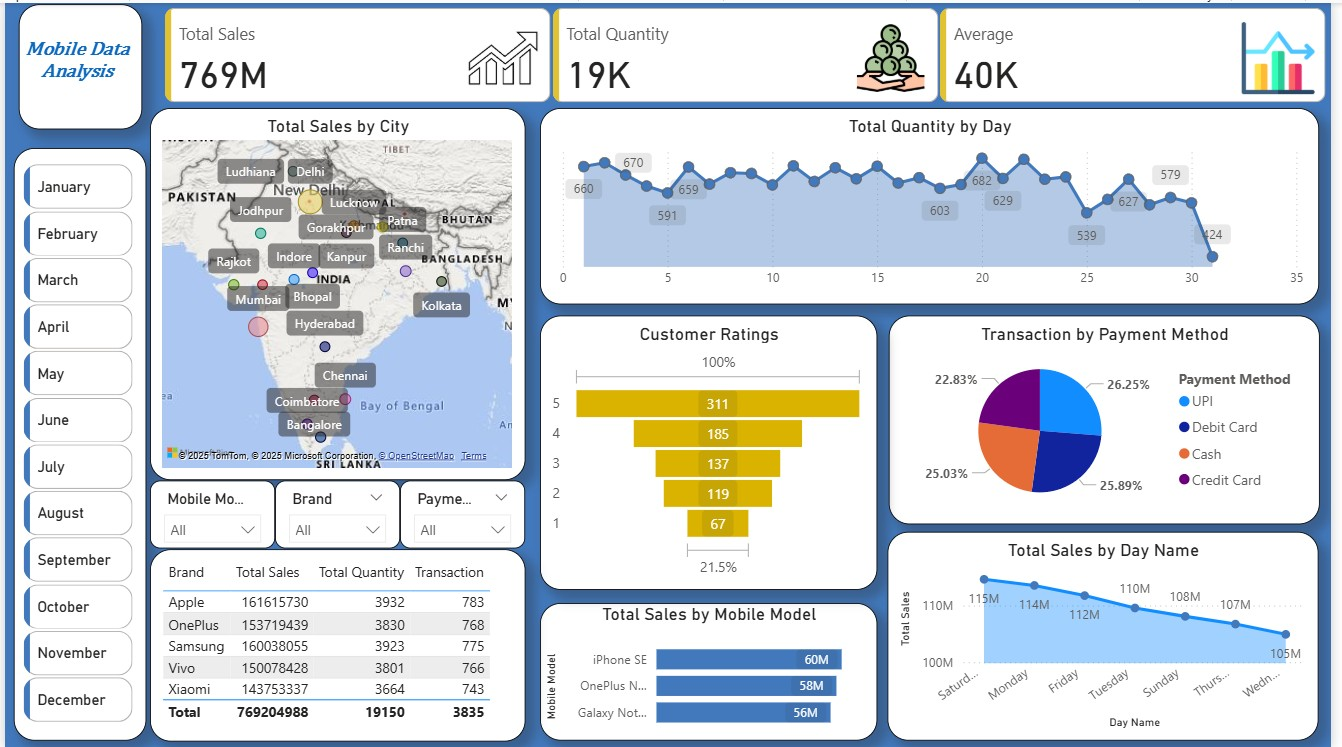

Layout of this report page (visuals, bound fields, positions):
{"tool":"powerbi","page":{"name":"Page 1","canvas":[1280,720],"ordinal":0},"visuals":[{"type":"shape","box":[13.7,1.4,119.4,120.8],"z":0},{"type":"shape","box":[8.2,140,127.6,572.2],"z":1000},{"type":"advancedSlicerVisual","fields":{"Values":["Sheet1.Date.Variation.Date Hierarchy.Month"]},"box":[13.3,150.8,115.8,548.9],"z":2000},{"type":"cardVisual","fields":{"Data":["Sales _Data.Total Sales","Sales _Data.Total Quantity","Sales _Data.Average"]},"box":[149.6,0,1130.7,101.5],"z":3000},{"type":"map","fields":{"Category":["Sales _Data.City"],"Size":["Sales _Data.Total Sales"]},"box":[140,101.5,362.3,359.5],"z":4000},{"type":"lineChart","fields":{"Category":["Sales _Data.Date.Variation.Date Hierarchy.Month","Sales _Data.Date.Variation.Date Hierarchy.Day"],"Y":["Sales _Data.Total Quantity"]},"box":[516,101.5,752,189.4],"z":5000},{"type":"clusteredBarChart","fields":{"Category":["Sales _Data.Mobile Model"],"Y":["Sales _Data.Total Sales"]},"box":[516,579.1,325.2,133.1],"z":6000},{"type":"pieChart","fields":{"Y":["Sales _Data.Transaction"],"Category":["Sales _Data.Payment Method"]},"box":[853.5,301.9,415.8,201.7],"z":7000},{"type":"funnel","title":"Customer Ratings","fields":{"Category":["Sales _Data.Customer Ratings"],"Y":["CountNonNull(Sales _Data.Customer Ratings)"]},"box":[516,301.9,325.2,264.8],"z":8000},{"type":"areaChart","fields":{"Category":["Sales _Data.Day Name"],"Y":["Sales _Data.Total Sales"]},"box":[852.1,510.5,415.8,201.7],"z":9000},{"type":"tableEx","fields":{"Values":["Sales _Data.Brand","Sales _Data.Total Sales","Sales _Data.Total Quantity","Sales _Data.Transaction"]},"box":[140,526.9,362.3,185.2],"z":10000},{"type":"slicer","fields":{"Values":["Sales _Data.Mobile Model"]},"box":[140,461.1,120.8,65.9],"z":11000},{"type":"slicer","fields":{"Values":["Sales _Data.Brand"]},"box":[260.7,461.1,120.8,65.9],"z":12000},{"type":"slicer","fields":{"Values":["Sales _Data.Payment Method"]},"box":[381.5,461.1,120.8,65.9],"z":13000},{"type":"textbox","box":[0,29,138.7,66.4],"z":14000}]}

Visuals, with their boxes in screenshot pixels (x1, y1, x2, y2), scaled from the page's 1280x720 canvas onto the 1342x747 screenshot:
shape: {"x1": 14, "y1": 1, "x2": 140, "y2": 127}
shape: {"x1": 9, "y1": 145, "x2": 142, "y2": 739}
advancedSlicerVisual - Sheet1.Date.Variation.Date Hierarchy.Month: {"x1": 14, "y1": 156, "x2": 135, "y2": 726}
cardVisual - Sales _Data.Total Sales x Sales _Data.Total Quantity: {"x1": 157, "y1": 0, "x2": 1341, "y2": 105}
map - Sales _Data.City x Sales _Data.Total Sales: {"x1": 147, "y1": 105, "x2": 527, "y2": 478}
lineChart - Sales _Data.Date.Variation.Date Hierarchy.Month x Sales _Data.Date.Variation.Date Hierarchy.Day: {"x1": 541, "y1": 105, "x2": 1329, "y2": 302}
clusteredBarChart - Sales _Data.Mobile Model x Sales _Data.Total Sales: {"x1": 541, "y1": 601, "x2": 882, "y2": 739}
pieChart - Sales _Data.Transaction x Sales _Data.Payment Method: {"x1": 895, "y1": 313, "x2": 1331, "y2": 522}
"Customer Ratings" funnel: {"x1": 541, "y1": 313, "x2": 882, "y2": 588}
areaChart - Sales _Data.Day Name x Sales _Data.Total Sales: {"x1": 893, "y1": 530, "x2": 1329, "y2": 739}
tableEx - Sales _Data.Brand x Sales _Data.Total Sales: {"x1": 147, "y1": 547, "x2": 527, "y2": 739}
slicer - Sales _Data.Mobile Model: {"x1": 147, "y1": 478, "x2": 273, "y2": 547}
slicer - Sales _Data.Brand: {"x1": 273, "y1": 478, "x2": 400, "y2": 547}
slicer - Sales _Data.Payment Method: {"x1": 400, "y1": 478, "x2": 527, "y2": 547}
textbox: {"x1": 0, "y1": 30, "x2": 145, "y2": 99}
